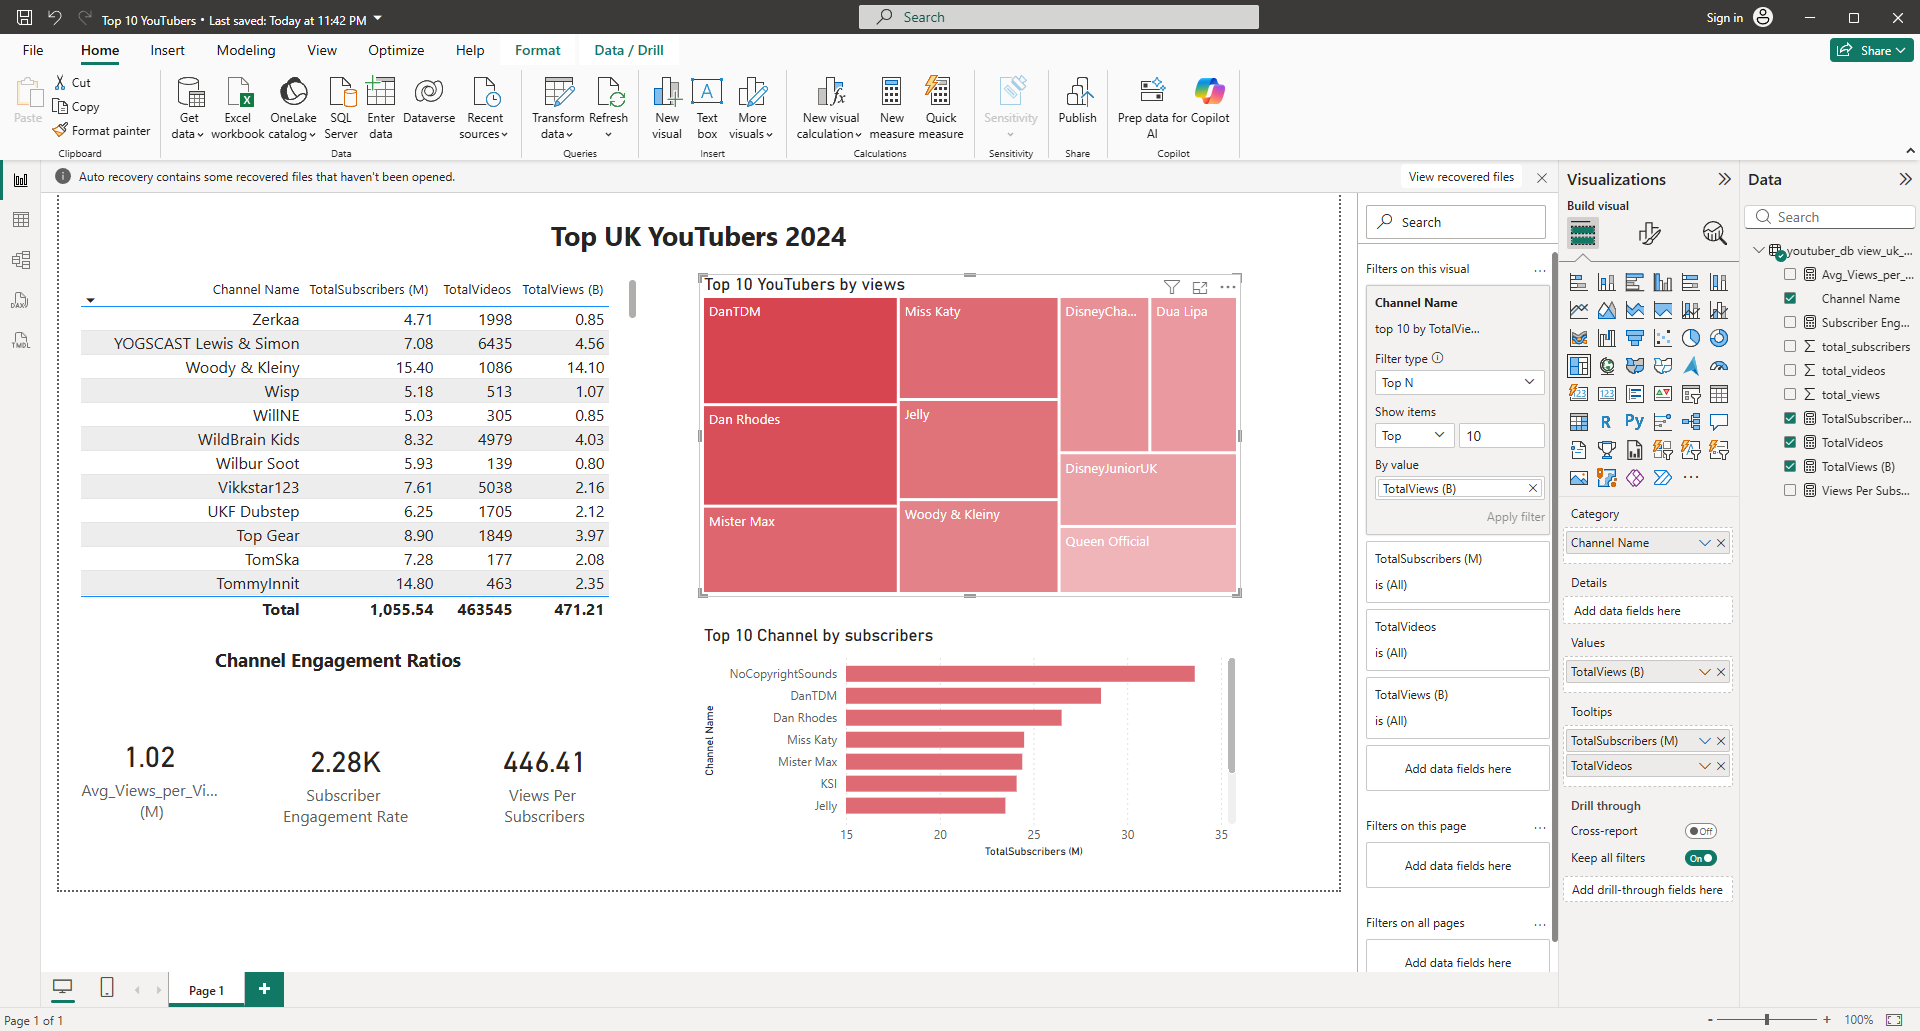

The page's visual inventory and layout, read from the dashboard file:
{"tool":"powerbi","page":{"name":"Page 1","canvas":[1280,720],"ordinal":0},"visuals":[{"type":"textbox","box":[480.5,41.8,318.1,62.2],"z":0},{"type":"tableEx","fields":{"Values":["youtuber_db view_uk_youtubers_2024.Channel_name","youtuber_db view_uk_youtubers_2024.TotalSubscribers (M)","youtuber_db view_uk_youtubers_2024.TotalVideos","youtuber_db view_uk_youtubers_2024.TotalViews (B)"]},"box":[15.6,104.1,567.1,351.1],"z":1000},{"type":"treemap","title":"Top 10 YouTubers by views","fields":{"Group":["youtuber_db view_uk_youtubers_2024.Channel_name"],"Values":["youtuber_db view_uk_youtubers_2024.TotalViews (B)"]},"box":[640,104.1,541.8,322.9],"z":1001},{"type":"card","fields":{"Values":["youtuber_db view_uk_youtubers_2024.Avg_Views_per_Video (M)"]},"box":[15.6,497,149.8,195.5],"z":1002},{"type":"card","fields":{"Values":["youtuber_db view_uk_youtubers_2024.Subscriber Engagement Rate"]},"box":[213,507.7,146.9,184.8],"z":1003},{"type":"card","fields":{"Values":["youtuber_db view_uk_youtubers_2024.Views Per Subscribers"]},"box":[406.6,507.7,157.6,184.8],"z":1004},{"type":"clusteredBarChart","title":"Top 10 Channel by subscribers","fields":{"Category":["youtuber_db view_uk_youtubers_2024.Channel_name"],"Y":["youtuber_db view_uk_youtubers_2024.TotalSubscribers (M)"]},"box":[640,455,542,237],"z":1005},{"type":"textbox","box":[150.8,471.7,255.8,36],"z":1006}]}

Visuals, with their boxes on the page's 1280x720 design canvas (x1, y1, x2, y2). These are canvas units, not pixel positions in the 1920x1031 screenshot, which may show the page scaled, cropped or inside an application window:
textbox: pyautogui.locateOnScreen(480, 42, 799, 104)
tableEx - youtuber_db view_uk_youtubers_2024.Channel_name x youtuber_db view_uk_youtubers_2024.TotalSubscribers (M): pyautogui.locateOnScreen(16, 104, 583, 455)
"Top 10 YouTubers by views" treemap: pyautogui.locateOnScreen(640, 104, 1182, 427)
card - youtuber_db view_uk_youtubers_2024.Avg_Views_per_Video (M): pyautogui.locateOnScreen(16, 497, 165, 692)
card - youtuber_db view_uk_youtubers_2024.Subscriber Engagement Rate: pyautogui.locateOnScreen(213, 508, 360, 692)
card - youtuber_db view_uk_youtubers_2024.Views Per Subscribers: pyautogui.locateOnScreen(407, 508, 564, 692)
"Top 10 Channel by subscribers" clusteredBarChart: pyautogui.locateOnScreen(640, 455, 1182, 692)
textbox: pyautogui.locateOnScreen(151, 472, 407, 508)
